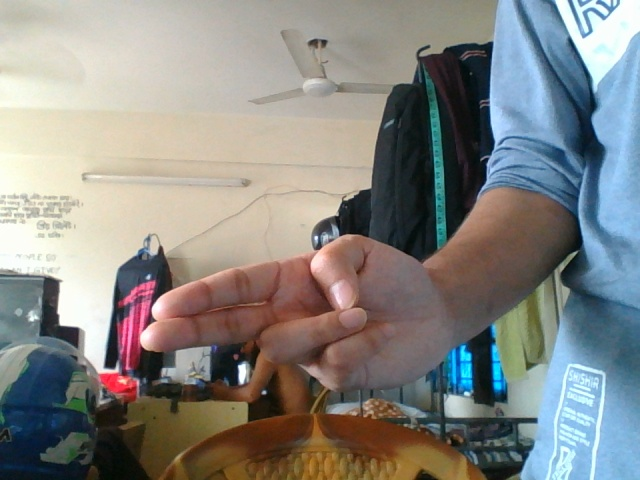ha: (122, 225, 497, 390)
